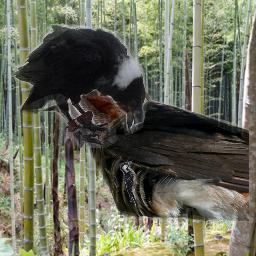Crow: (13, 24, 148, 148)
Swallow: (38, 57, 249, 223)
Woodpecker: (120, 160, 145, 207)
